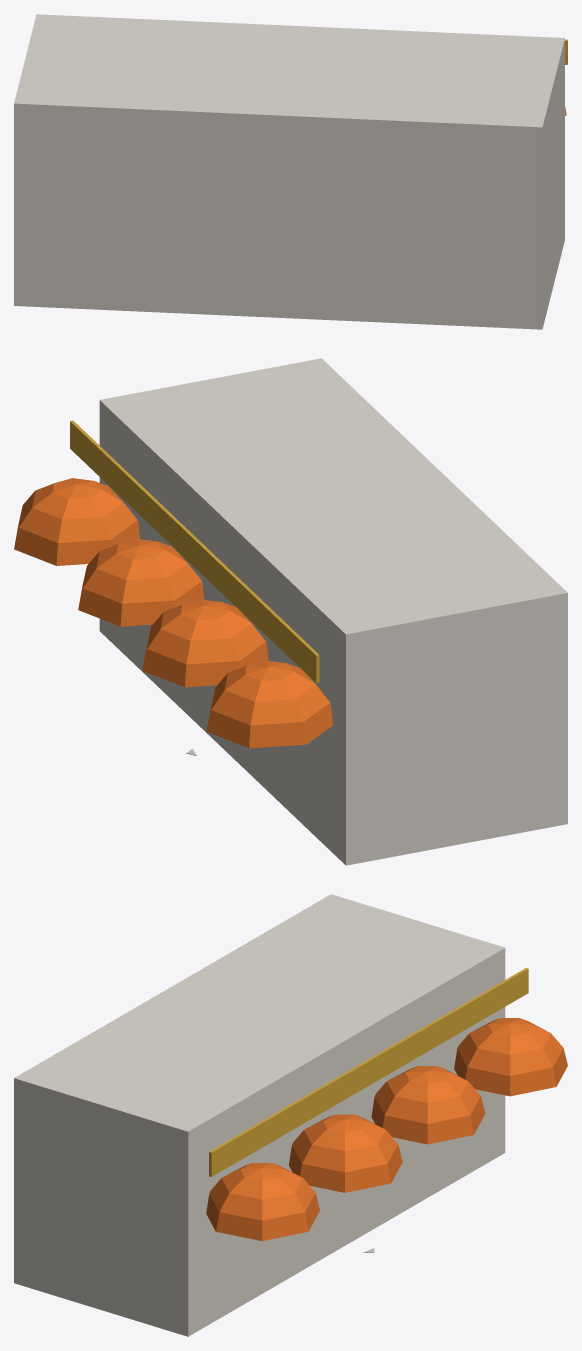
Rendered from ora_touchofgold.glb.
3 renders of one model, top to bottom at view 1: azimuth 30°, elevation 25°; view 2: azimuth 150°, elevation 25°; view 3: azimuth 270°, elevation 25°, orthographic. The views are drawn at different scales.
Visible parts, largest first — view 1: ora_touchofgold_lod0; view 2: ora_touchofgold_lod0; view 3: ora_touchofgold_lod0.
Boxes of the visible parts, box(x1,y1,x2,y2) form: ora_touchofgold_lod0: box(14, 14, 567, 329); ora_touchofgold_lod0: box(14, 358, 567, 865); ora_touchofgold_lod0: box(14, 894, 567, 1336).
Size of what is drawn, in the model's own units: 11.19 by 4.2 by 10.28.
